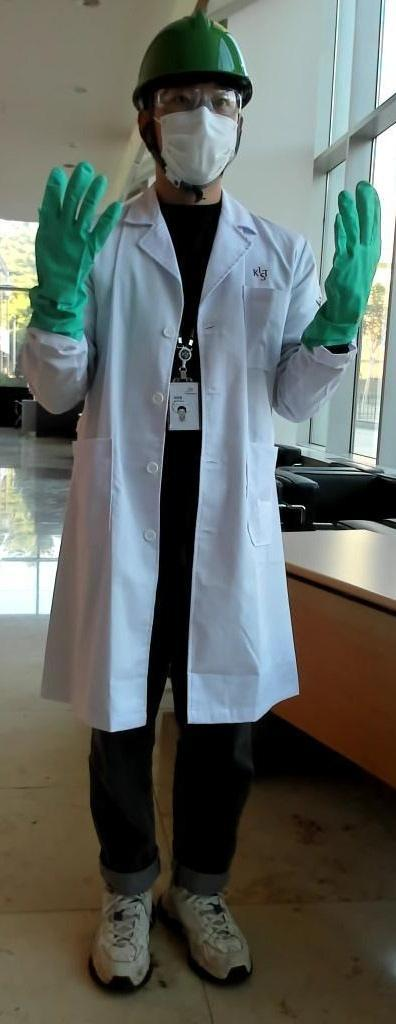lab_coat: (80, 234, 287, 717)
